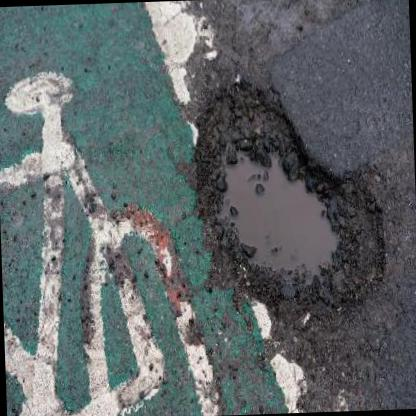pothole: (186, 73, 388, 329)
